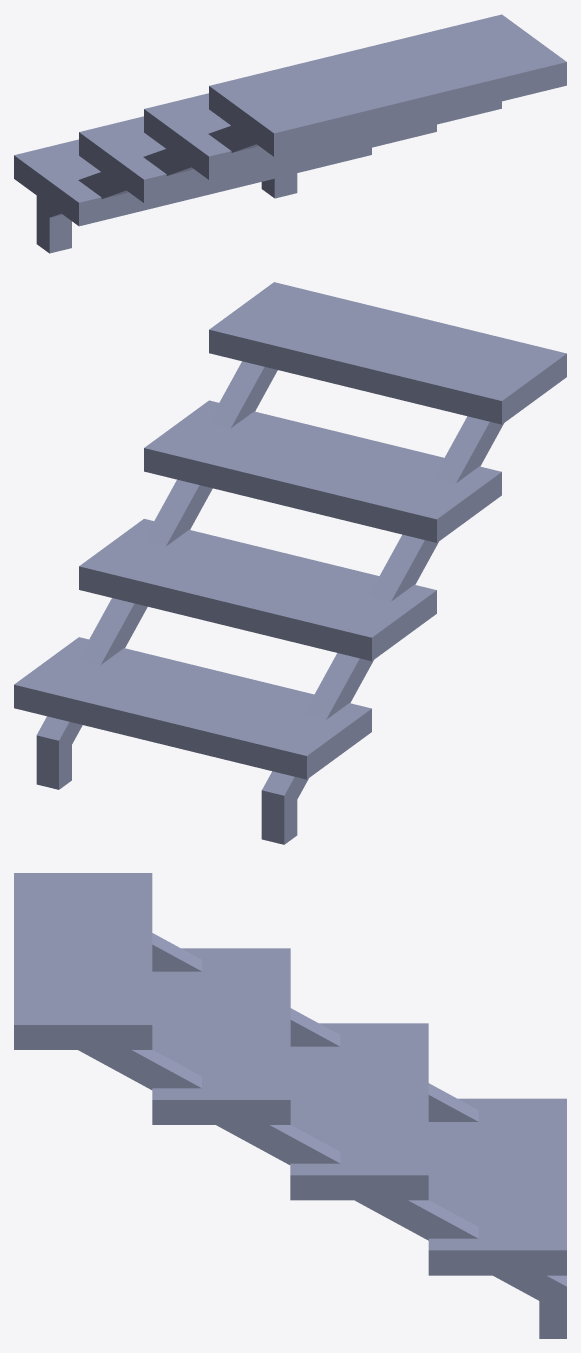
File: stairs-open-short.obj
The picture shows the model from 3 angles, top to bottom: view 1: azimuth 30°, elevation 25°; view 2: azimuth 150°, elevation 25°; view 3: azimuth 270°, elevation 25°; orthographic projection. The views are drawn at different scales.
Size of the model in its own units: 1.3 by 1.3 by 2.
